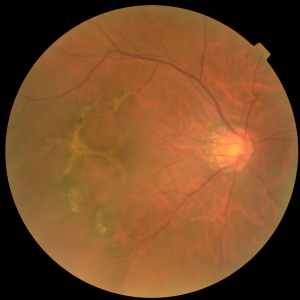retina_disease: (92, 104, 273, 218)
